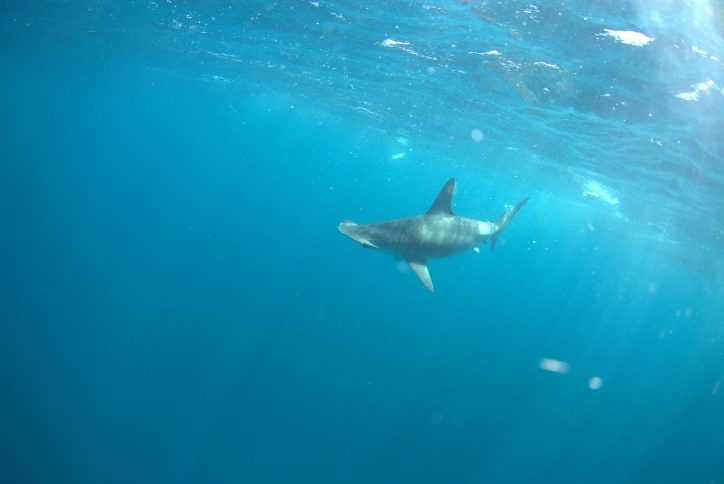Hammer: (298, 141, 561, 312)
